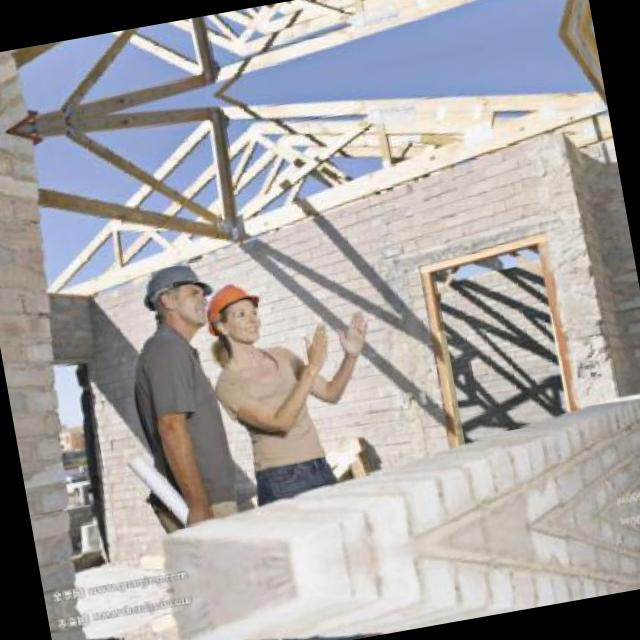helmet: (132, 248, 222, 343), (196, 269, 274, 355)
